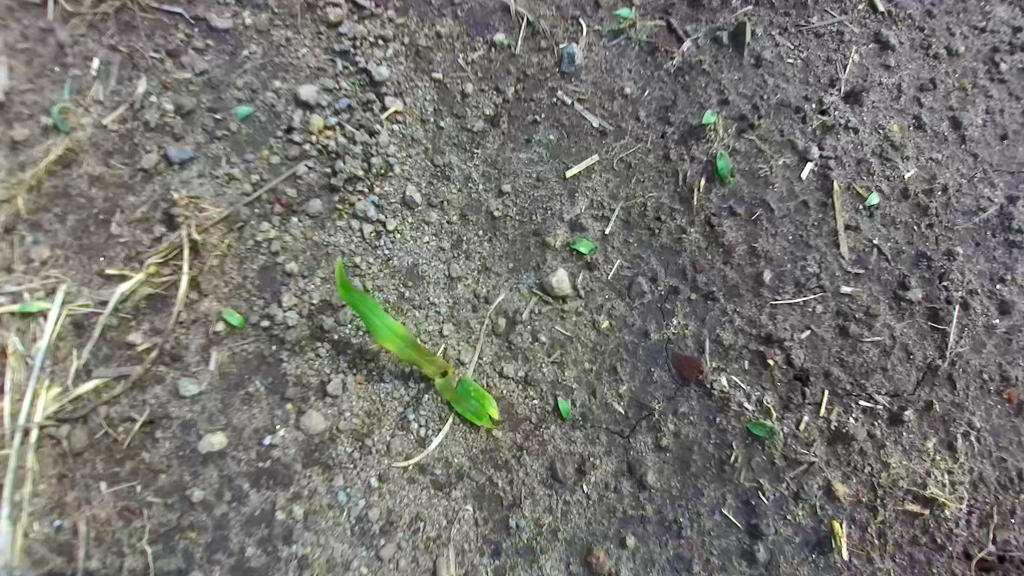BroWeed: (45, 76, 93, 134), (208, 301, 249, 330), (711, 145, 736, 186), (228, 97, 259, 124), (745, 417, 779, 441), (553, 389, 577, 422), (856, 187, 884, 215), (697, 100, 724, 129), (568, 233, 600, 257), (490, 28, 513, 54), (305, 113, 328, 136), (887, 118, 913, 134), (209, 318, 230, 333), (612, 6, 636, 19), (317, 127, 333, 141), (508, 39, 516, 53)
Maize: (313, 256, 512, 441)
